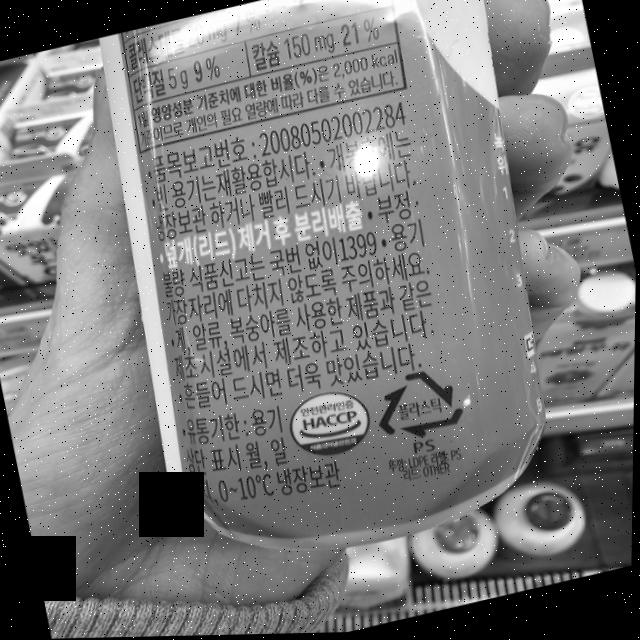Plastic: (368, 361, 471, 448)
